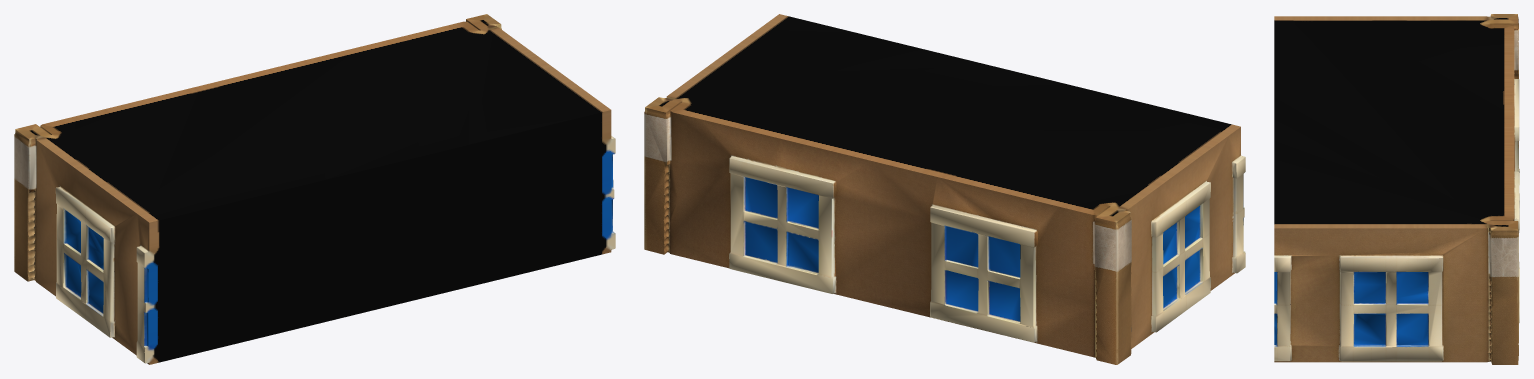
File: 6-upper-walls-back.fbx
3 renders of one model, left to right at view 1: azimuth 30°, elevation 25°; view 2: azimuth 150°, elevation 25°; view 3: azimuth 270°, elevation 25°, orthographic. The views are drawn at different scales.
Visible parts, largest first — view 1: upper-walls-back; view 2: upper-walls-back; view 3: upper-walls-back.
Part boxes in pixels (<box>): upper-walls-back: <box>14,14,615,364</box>; upper-walls-back: <box>644,14,1245,364</box>; upper-walls-back: <box>1274,14,1519,364</box>.
Size of the model in its own units: 9482 by 2720 by 4515.
1 material, 1 textured.
